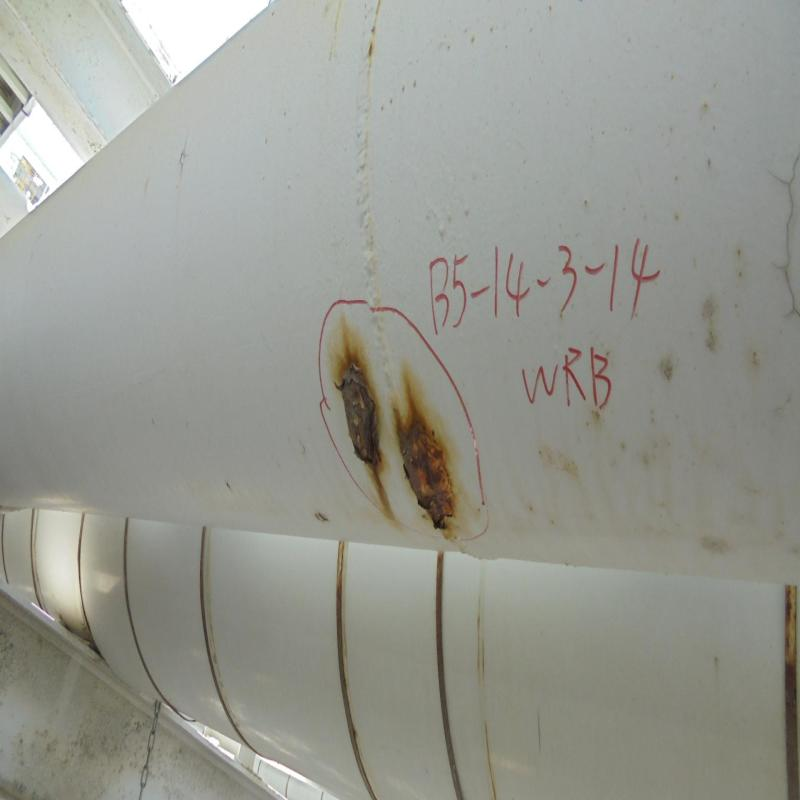corrosion: (342, 363, 454, 504)
